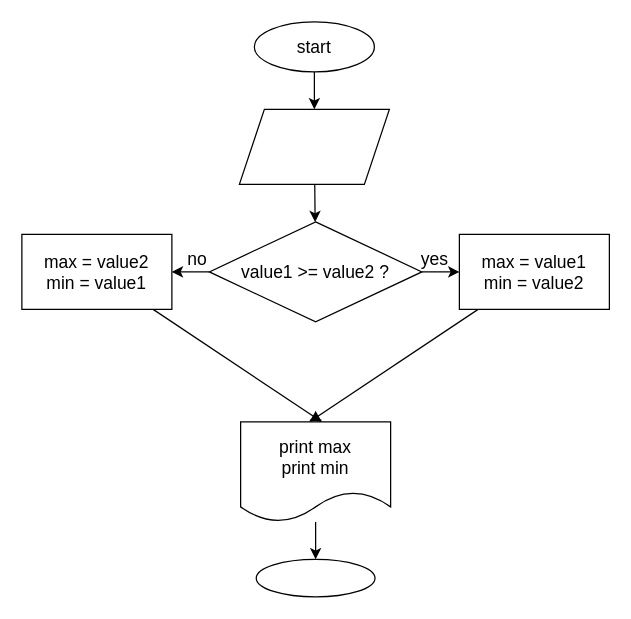
This 631x619 diagram has some shape labels left out. Each missing label, with the centre of its shape:
"end" belongs at (315,577).
"value1 value2" belongs at (313,146).
